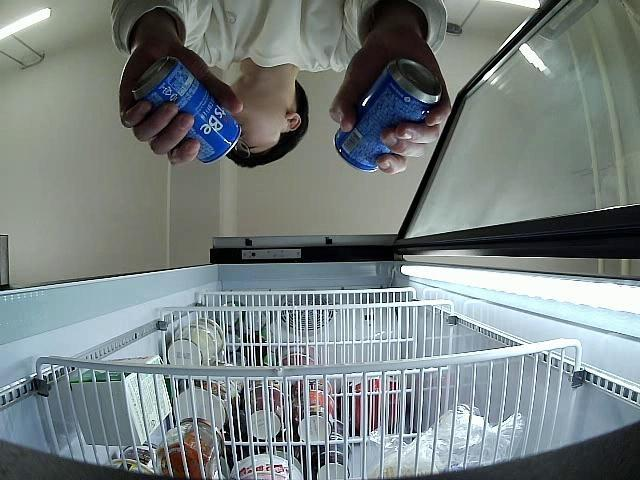15_letsbe: (333, 57, 442, 172), (128, 58, 240, 163)
